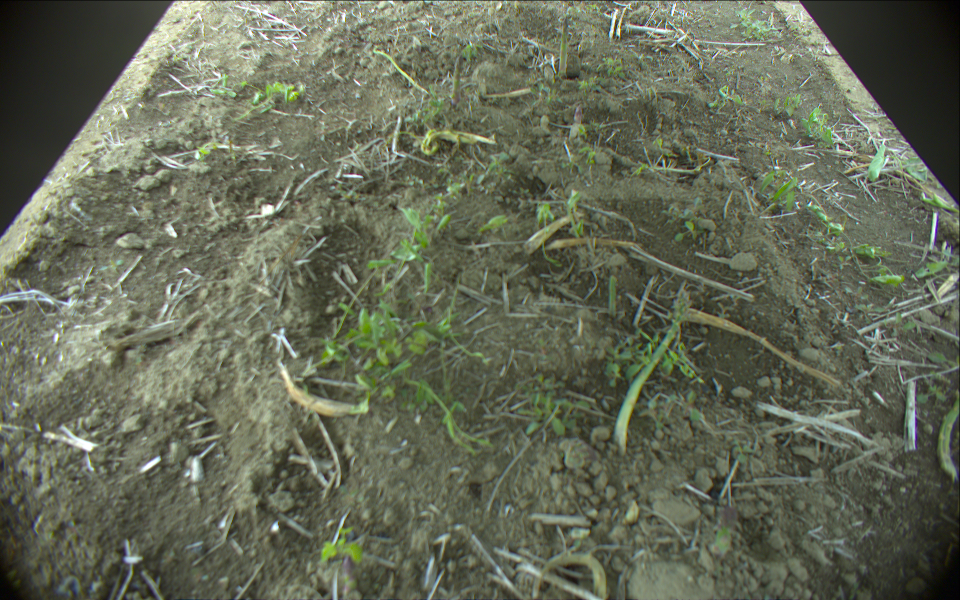aspa: (615, 292, 689, 450), (374, 45, 428, 93), (938, 394, 957, 480), (447, 55, 462, 108), (560, 16, 570, 76)
